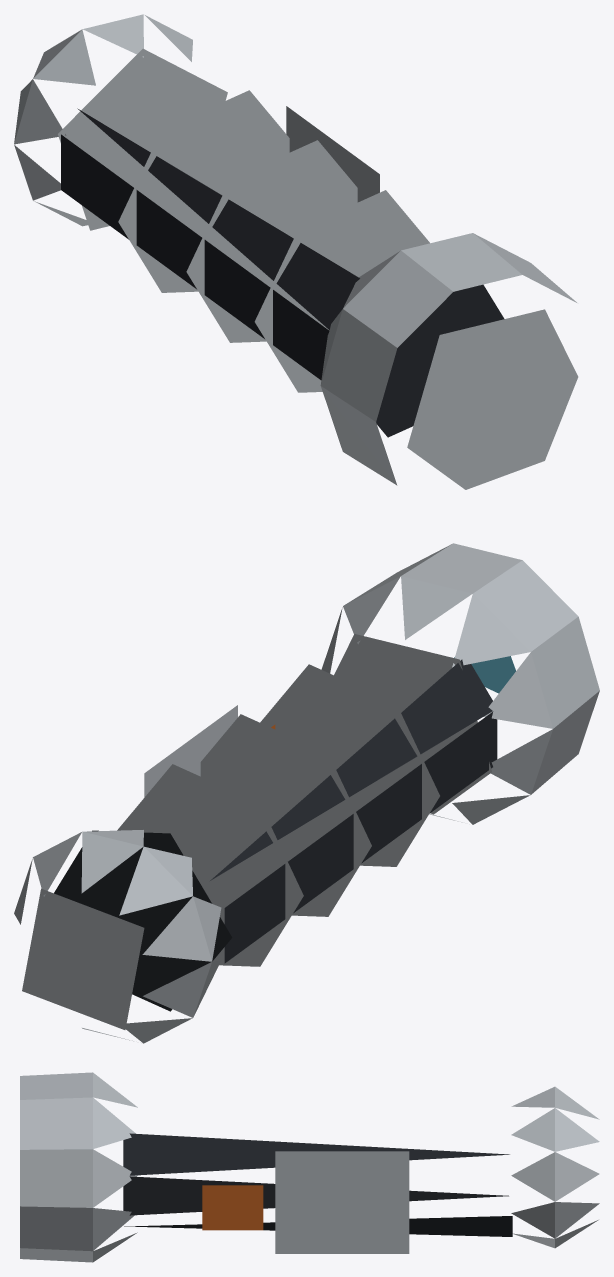
Rendered from saber-straight.lod.glb.
The picture shows the model from 3 angles, top to bottom: view 1: azimuth 30°, elevation 25°; view 2: azimuth 150°, elevation 25°; view 3: azimuth 270°, elevation 25°; orthographic projection. The views are drawn at different scales.
Parts seen in each view (by area): view 1: m; view 2: m; view 3: m.
Part boxes in pixels (bbox=[...]): m: bbox=[14, 14, 578, 489]; m: bbox=[14, 543, 599, 1043]; m: bbox=[20, 1072, 599, 1262].
Bounding box in the file's own units: 0.0265 × 0.0252 × 0.081.
